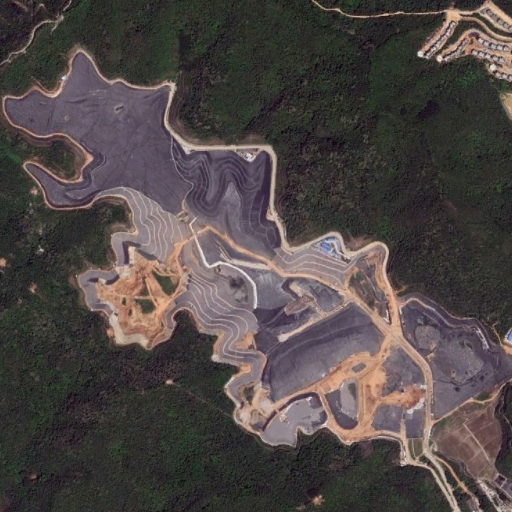lf: (10, 51, 512, 434)
